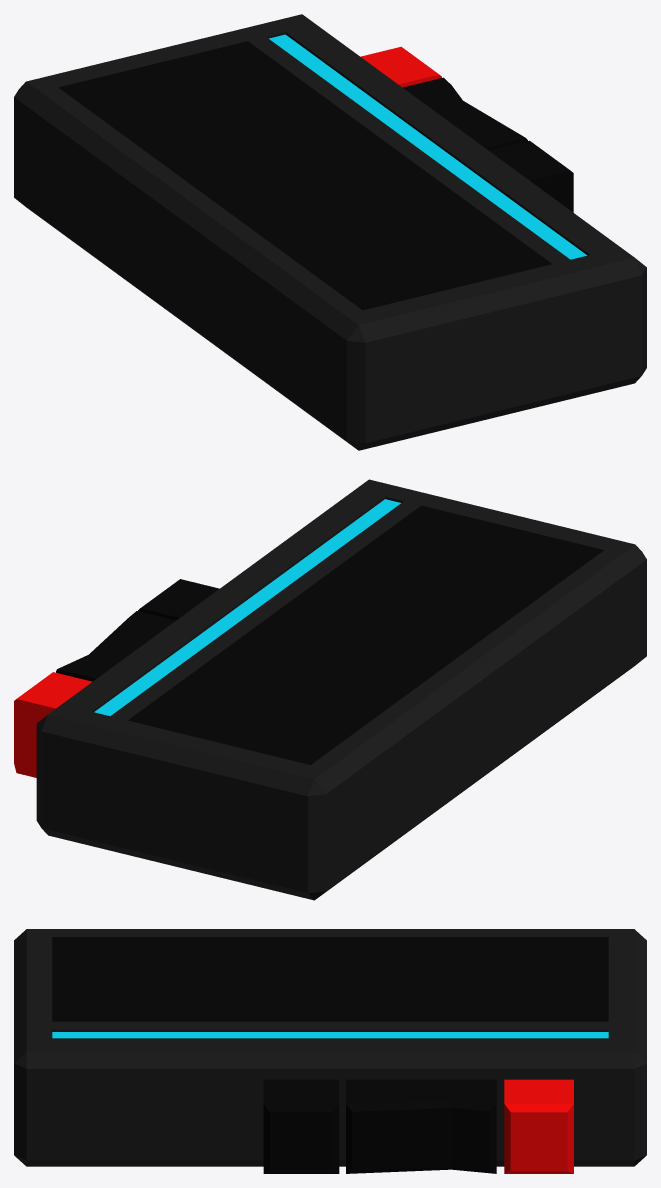
Rendered from recording.fbx.
The picture shows the model from 3 angles, top to bottom: view 1: azimuth 30°, elevation 25°; view 2: azimuth 150°, elevation 25°; view 3: azimuth 270°, elevation 25°; orthographic projection. The views are drawn at different scales.
Parts seen in each view (by area): view 1: Box001; view 2: Box001; view 3: Box001.
Boxes of the visible parts, bbox=[...] form: Box001: bbox=[14, 14, 646, 450]; Box001: bbox=[14, 479, 646, 900]; Box001: bbox=[14, 929, 646, 1173].
Size of the model in its own units: 0.3 by 0.1 by 0.5.
